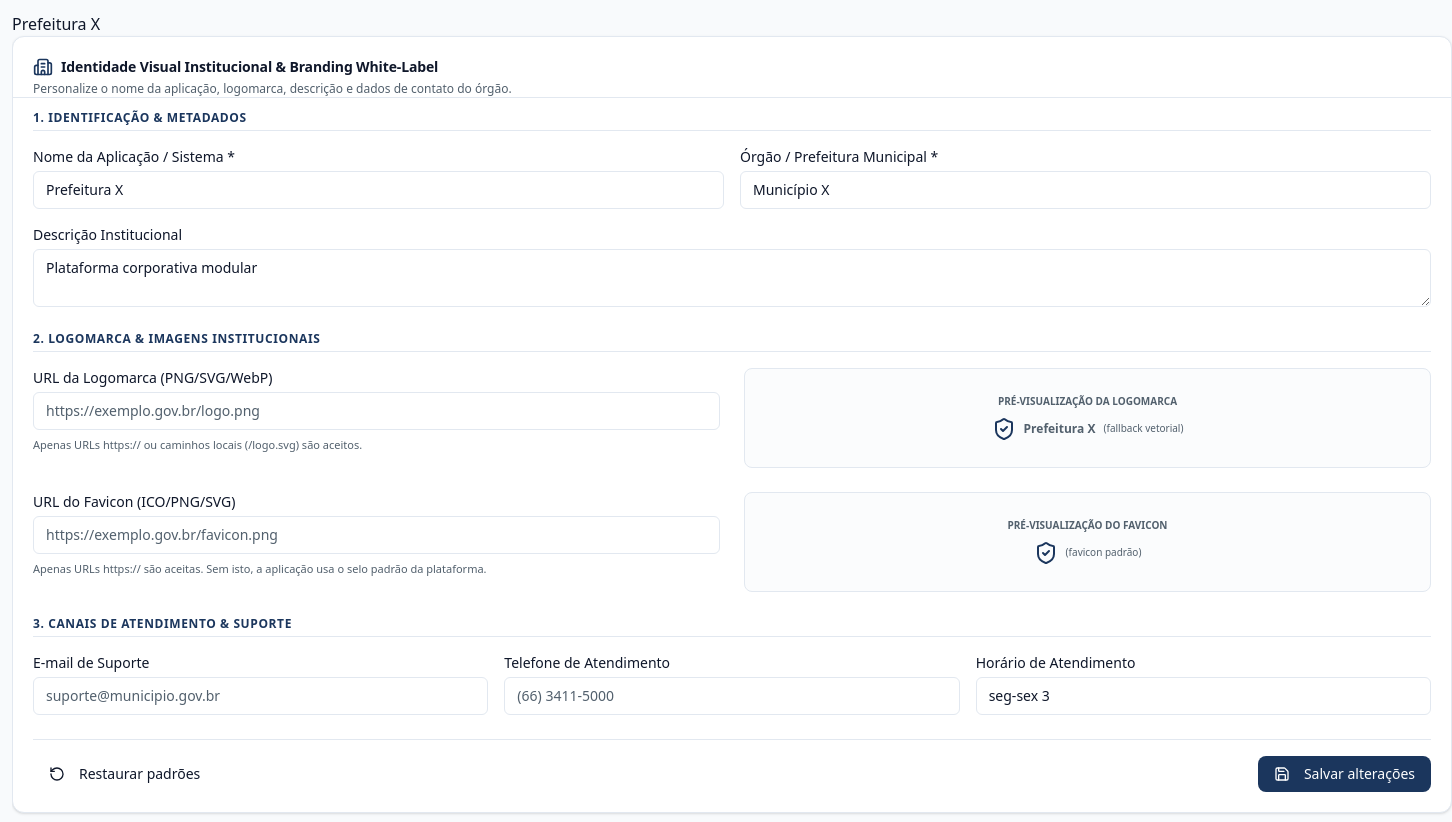
Test: BrandingSettingsForm › falha ao expirar o cache não desfaz a gravação
Check: the field labelled "Nome da Aplicação / Sistema *" is enabled, box x1=33 y1=171 x2=724 y2=209
Click the button "Salvar alterações": {"x": 1344, "y": 774} x1=1258 y1=756 x2=1431 y2=792
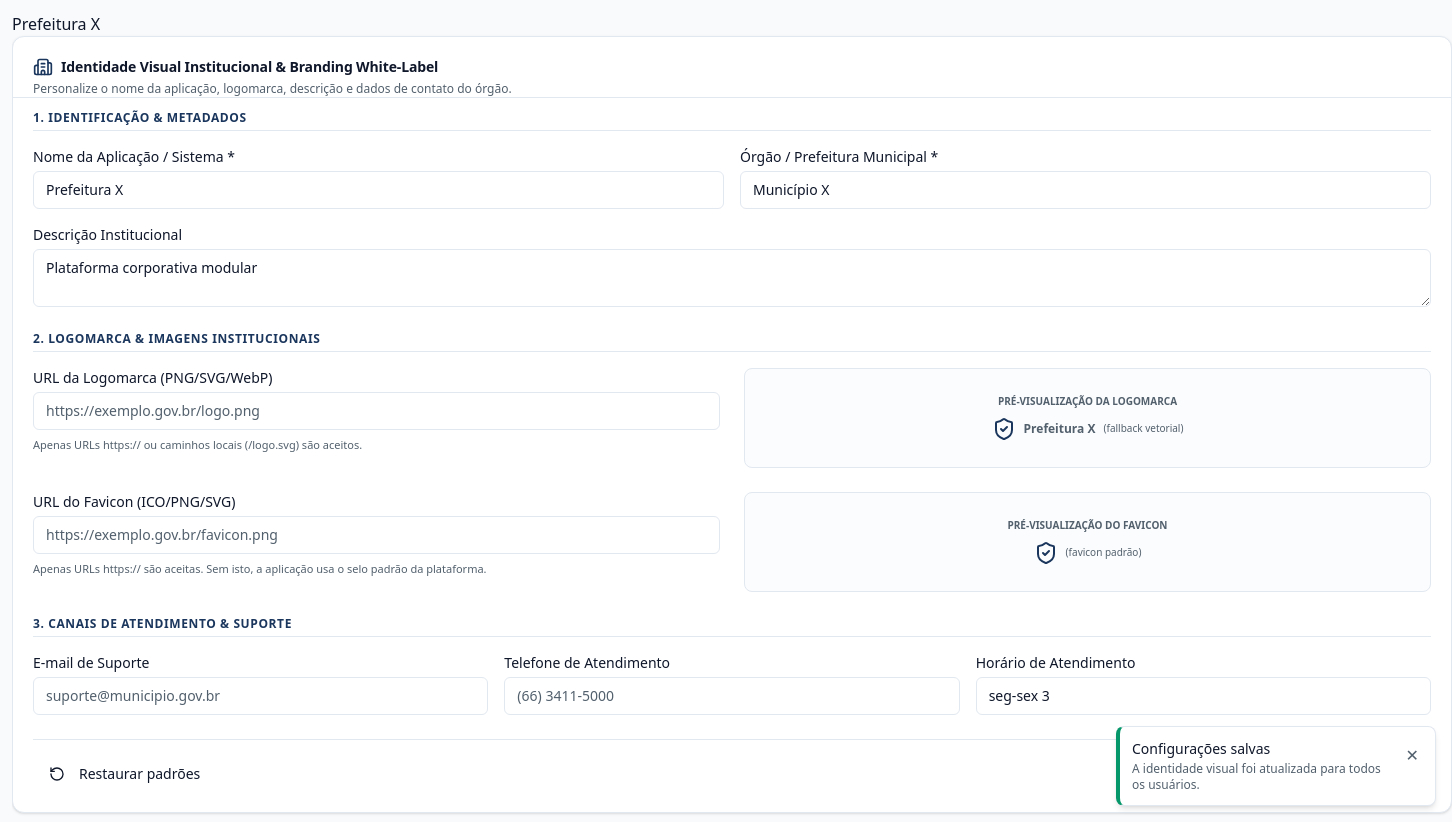
Check: the text "Configurações salvas" is shown, box x1=1132 y1=739 x2=1270 y2=758
